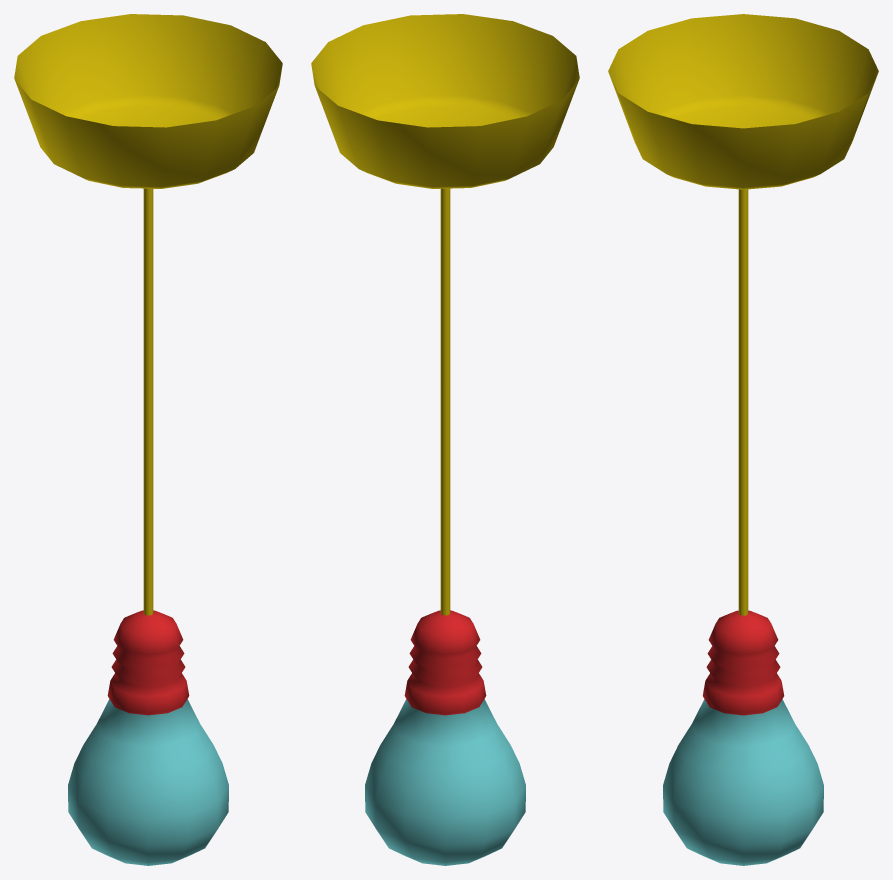
File: MOD_LAM_Ceiling_lamp_wire_01.fbx
3 views of the same model, side by side, from view 1: azimuth 30°, elevation 25°; view 2: azimuth 150°, elevation 25°; view 3: azimuth 270°, elevation 25° (orthographic).
Visible parts, largest first — view 1: HSHP_MOD_Ceiling_lamp_wire_01; view 2: HSHP_MOD_Ceiling_lamp_wire_01; view 3: HSHP_MOD_Ceiling_lamp_wire_01.
Boxes of the visible parts, x1=… form: HSHP_MOD_Ceiling_lamp_wire_01: x1=14, y1=14, x2=282, y2=865; HSHP_MOD_Ceiling_lamp_wire_01: x1=311, y1=14, x2=579, y2=865; HSHP_MOD_Ceiling_lamp_wire_01: x1=608, y1=14, x2=878, y2=865.
Size of the model in its own units: 0.1604 by 0.5109 by 0.1604.
